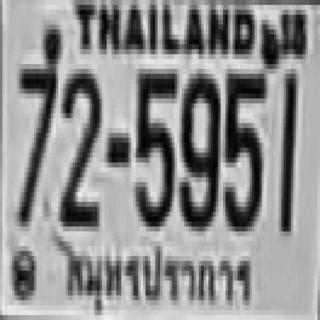N01: (279, 69, 296, 232), (279, 72, 293, 229)
N02: (58, 64, 99, 222)
N05: (133, 66, 175, 224), (223, 69, 264, 226)
N07: (16, 49, 57, 222)
N09: (177, 69, 218, 226)
P57: (64, 238, 256, 320)
